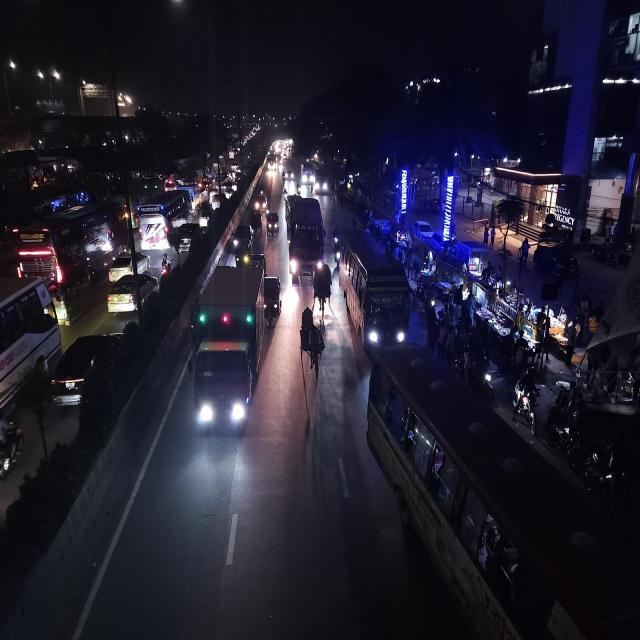bus: (361, 351, 640, 639), (11, 202, 127, 285), (341, 231, 414, 355), (0, 273, 60, 413), (284, 192, 327, 282), (136, 191, 190, 250), (303, 162, 314, 187)
car: (49, 326, 122, 411), (106, 271, 162, 317), (106, 250, 152, 279), (170, 222, 204, 256), (230, 223, 254, 248), (197, 202, 216, 230), (254, 192, 268, 212)
cng: (262, 273, 282, 329), (266, 209, 280, 242), (251, 210, 263, 236)
motorcycle: (509, 367, 540, 442), (545, 402, 583, 455), (0, 419, 26, 483), (159, 248, 175, 279), (331, 224, 341, 256), (333, 242, 341, 267)
rickshaw: (298, 304, 326, 376)
truck: (190, 258, 267, 441)
